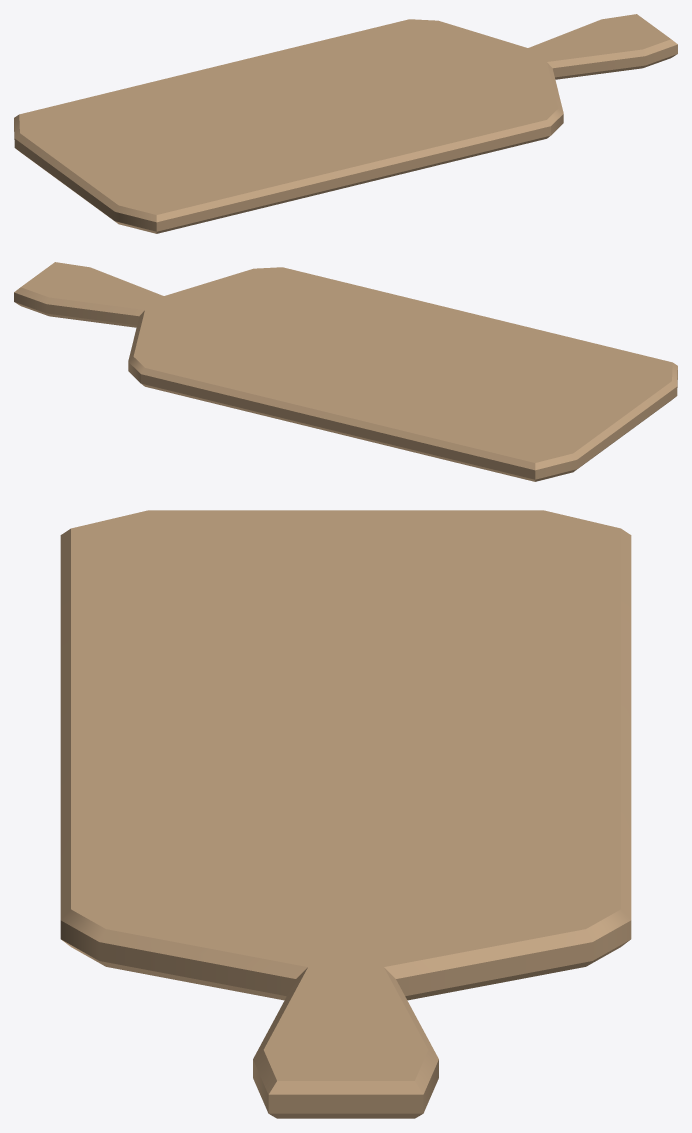
The model's file is cutting_board_1.fbx.
3 renders of one model, top to bottom at view 1: azimuth 30°, elevation 25°; view 2: azimuth 150°, elevation 25°; view 3: azimuth 270°, elevation 25°, orthographic. The views are drawn at different scales.
Visible parts, largest first — view 1: cutting_board_1; view 2: cutting_board_1; view 3: cutting_board_1.
Boxes of the visible parts, <box> form: cutting_board_1: <box>14,14,677,233</box>; cutting_board_1: <box>14,262,677,481</box>; cutting_board_1: <box>60,510,631,1118</box>.
Bounding box in the file's own units: 6.05 × 0.1837 × 2.52.
